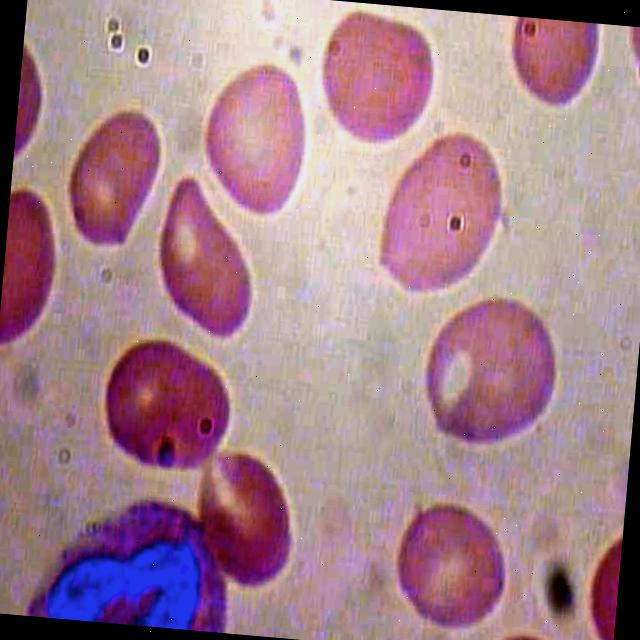RBC: (404, 291, 578, 464), (370, 121, 524, 311), (87, 334, 244, 480), (198, 50, 324, 226), (146, 170, 272, 346), (54, 94, 172, 268), (310, 0, 440, 154), (386, 499, 514, 639), (187, 444, 301, 596), (491, 15, 613, 119)
WBC: (0, 488, 257, 634)
